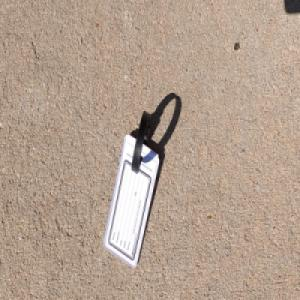LuggageTag: (102, 108, 159, 270)
